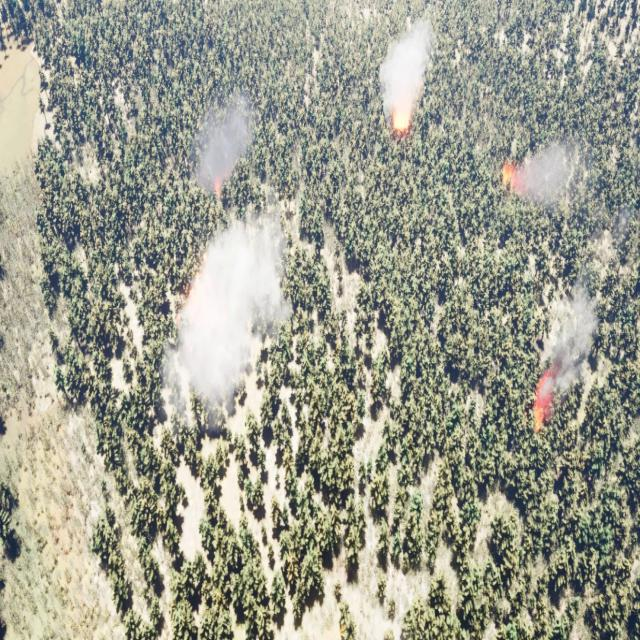fire: (536, 373, 555, 438), (503, 152, 523, 195), (391, 104, 415, 133)
smoke: (163, 203, 292, 447), (379, 5, 438, 133), (542, 284, 599, 412), (197, 90, 253, 200), (514, 145, 595, 208)
